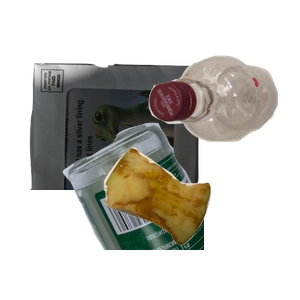glass: (60, 120, 300, 300)
paper: (27, 60, 223, 240)
plastic: (146, 53, 300, 187)
trash: (101, 145, 300, 300)
